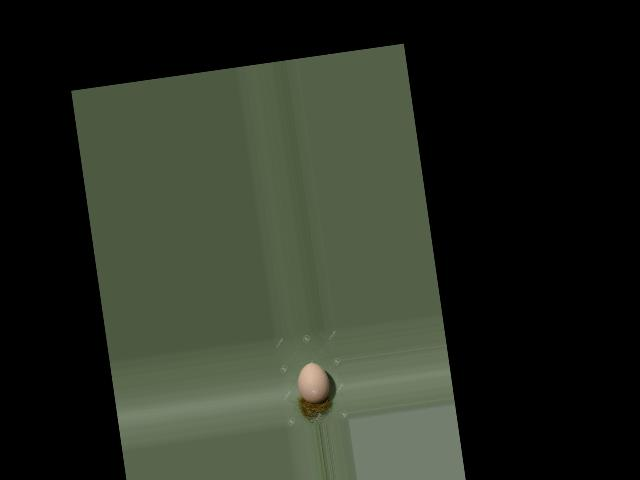egg: (295, 360, 332, 405)
